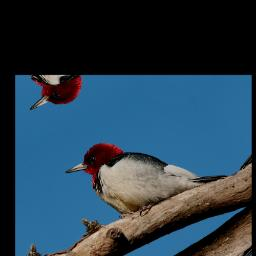Woodpecker: (60, 99, 229, 239)
